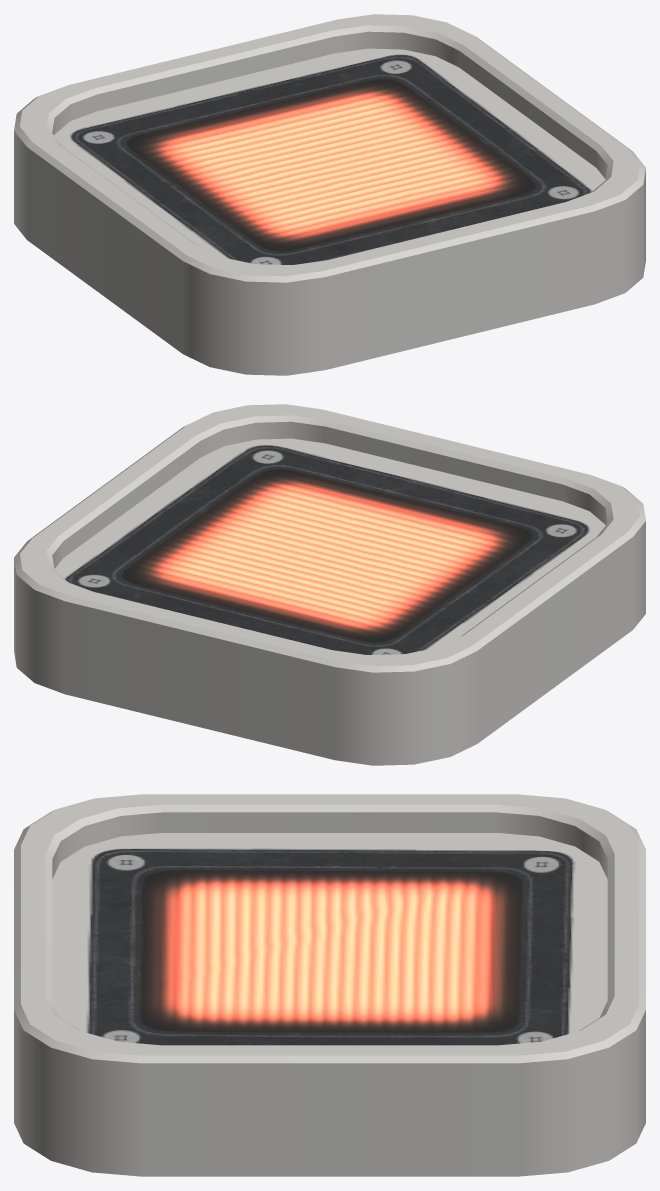
Rendered from SM_Lamp_1_3.fbx.
3 views of the same model, one above another, from view 1: azimuth 30°, elevation 25°; view 2: azimuth 150°, elevation 25°; view 3: azimuth 270°, elevation 25° (orthographic). The views are drawn at different scales.
Parts seen in each view (by area): view 1: SM_Lamp_1_3_LOD0; view 2: SM_Lamp_1_3_LOD0; view 3: SM_Lamp_1_3_LOD0.
Part boxes in pixels (x1,y1,x2,y2): SM_Lamp_1_3_LOD0: (14,14,645,375); SM_Lamp_1_3_LOD0: (14,404,645,765); SM_Lamp_1_3_LOD0: (14,794,645,1176).
Size of the model in its own units: 10 by 2.06 by 10.
1 material, 1 textured.
